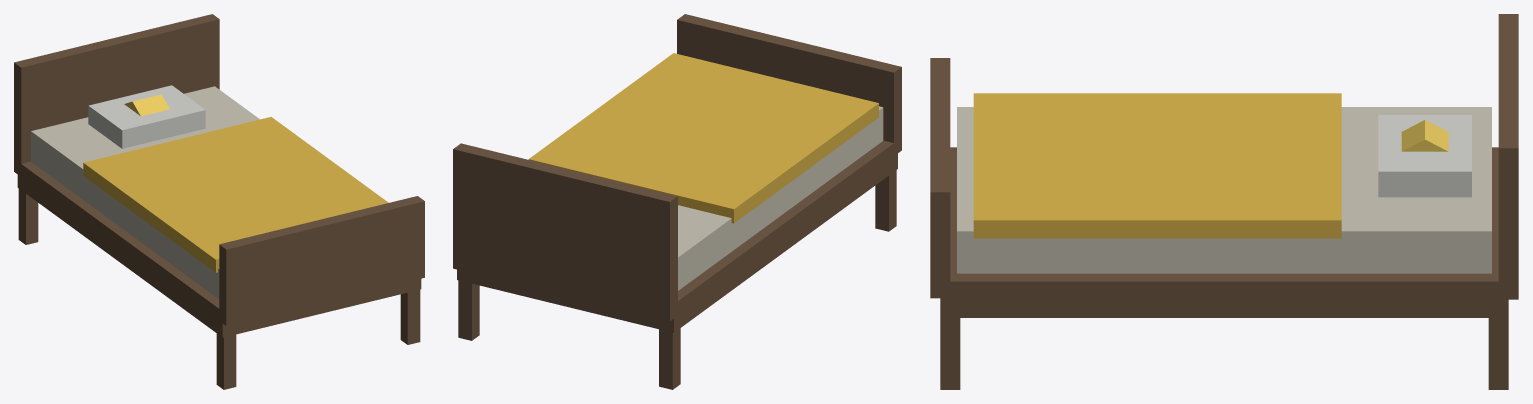
Rendered from Child_bed.obj.
The picture shows the model from 3 angles, left to right: view 1: azimuth 30°, elevation 25°; view 2: azimuth 150°, elevation 25°; view 3: azimuth 270°, elevation 25°; orthographic projection. The views are drawn at different scales.
Visible parts, largest first — view 1: Child_bed; view 2: Child_bed; view 3: Child_bed.
Part boxes in pixels (x1,y1,x2,y2): Child_bed: (14,14,424,389); Child_bed: (453,14,901,389); Child_bed: (930,14,1518,389).
Size of the model in its own units: 0.95 by 0.8 by 1.76.
